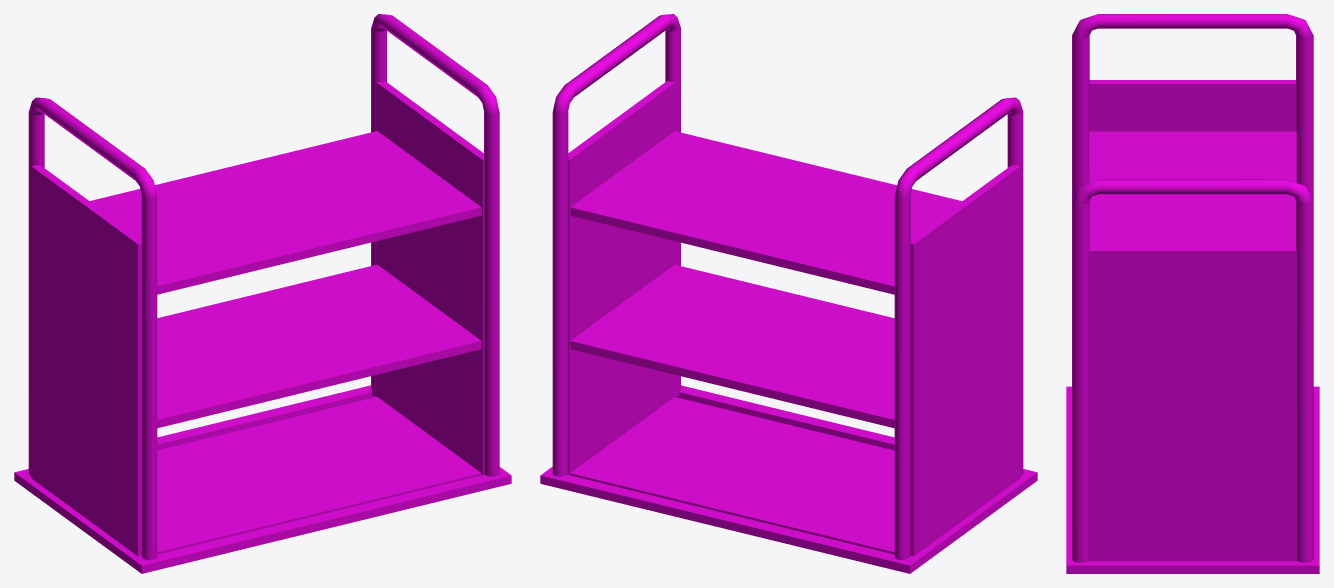
Rendered from Factory_Chariot_01_Lod1.fbx.
3 views of the same model, side by side, from view 1: azimuth 30°, elevation 25°; view 2: azimuth 150°, elevation 25°; view 3: azimuth 270°, elevation 25° (orthographic).
Parts seen in each view (by area): view 1: Factory_Chariot_01_Lod1; view 2: Factory_Chariot_01_Lod1; view 3: Factory_Chariot_01_Lod1.
Boxes of the visible parts, bbox=[...] form: Factory_Chariot_01_Lod1: bbox=[14, 14, 511, 573]; Factory_Chariot_01_Lod1: bbox=[540, 14, 1037, 573]; Factory_Chariot_01_Lod1: bbox=[1066, 14, 1319, 573].
Size of the model in its own units: 92.92 by 94.23 by 55.51.
